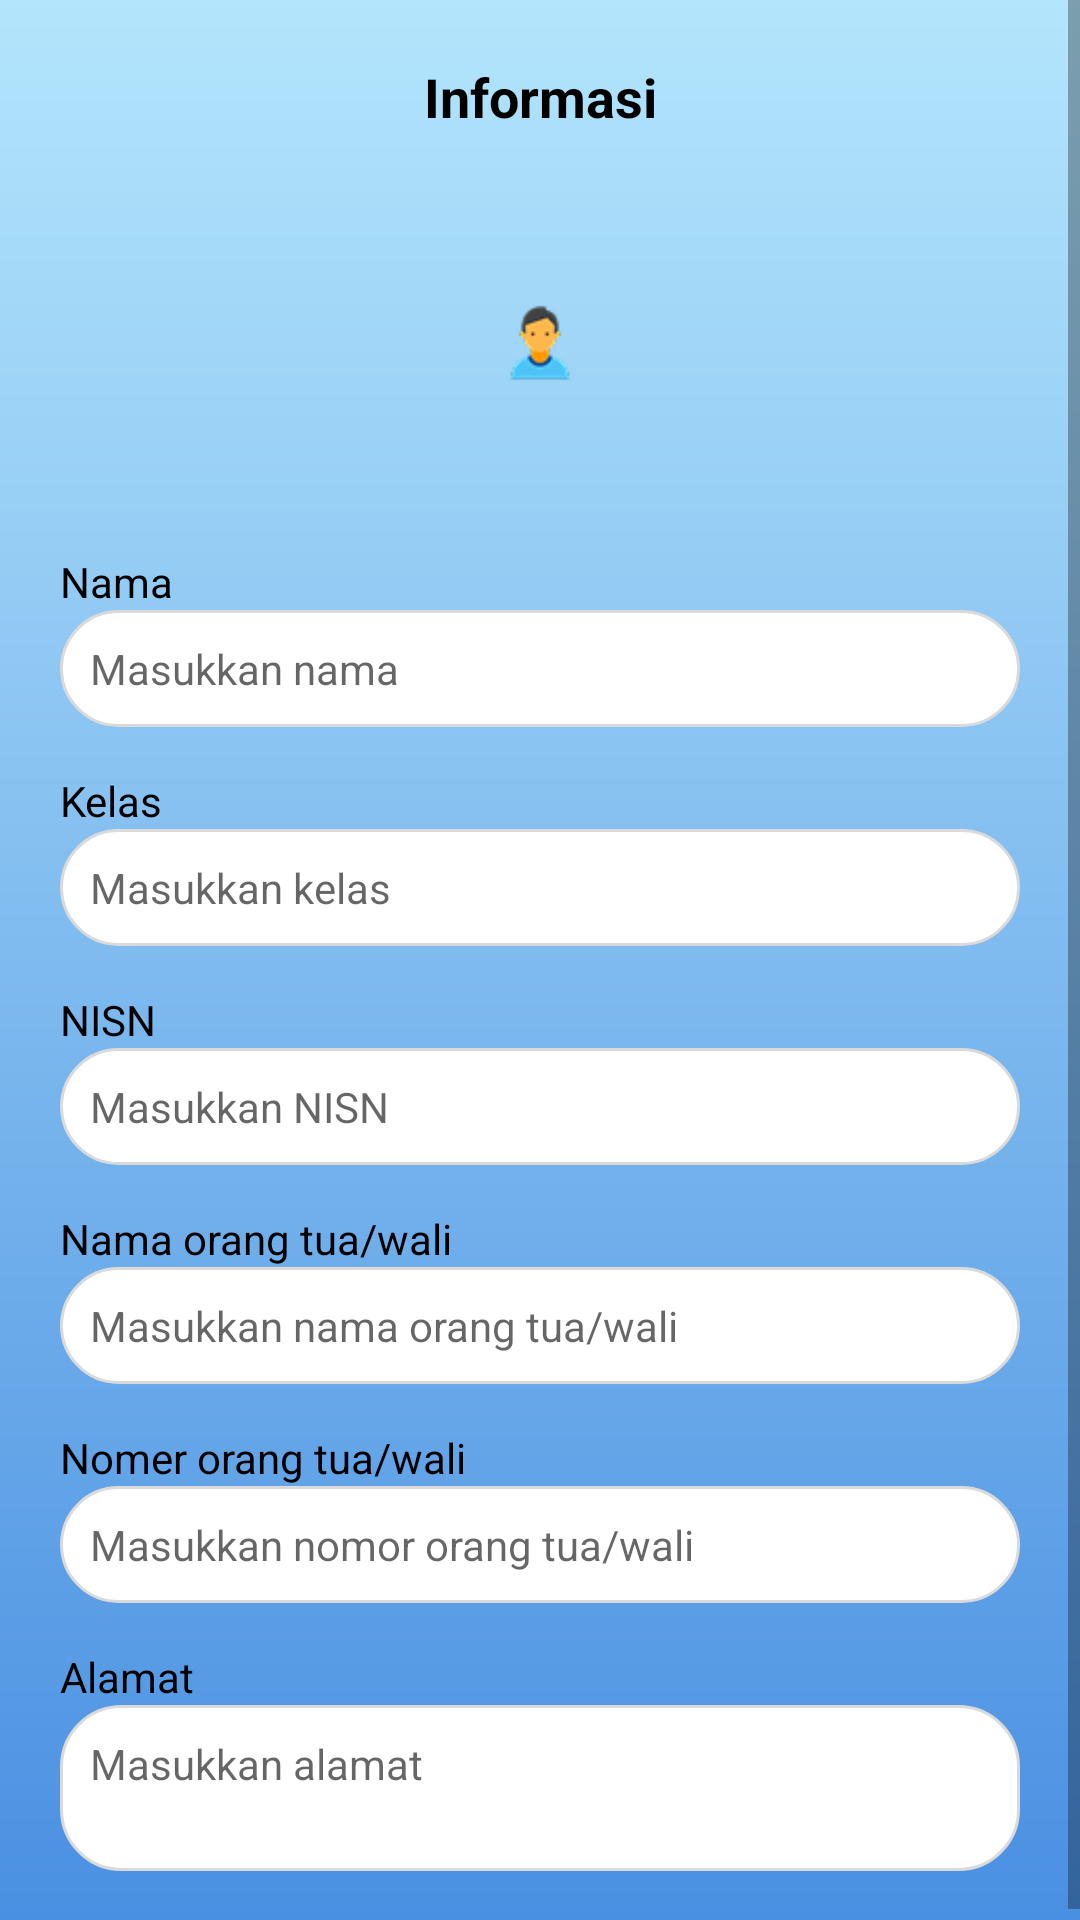

Icon bounding boxes for this 1080px×1920px phone screenshot, format (x1, y1, x2, y2):
person: (510, 306, 570, 380)
